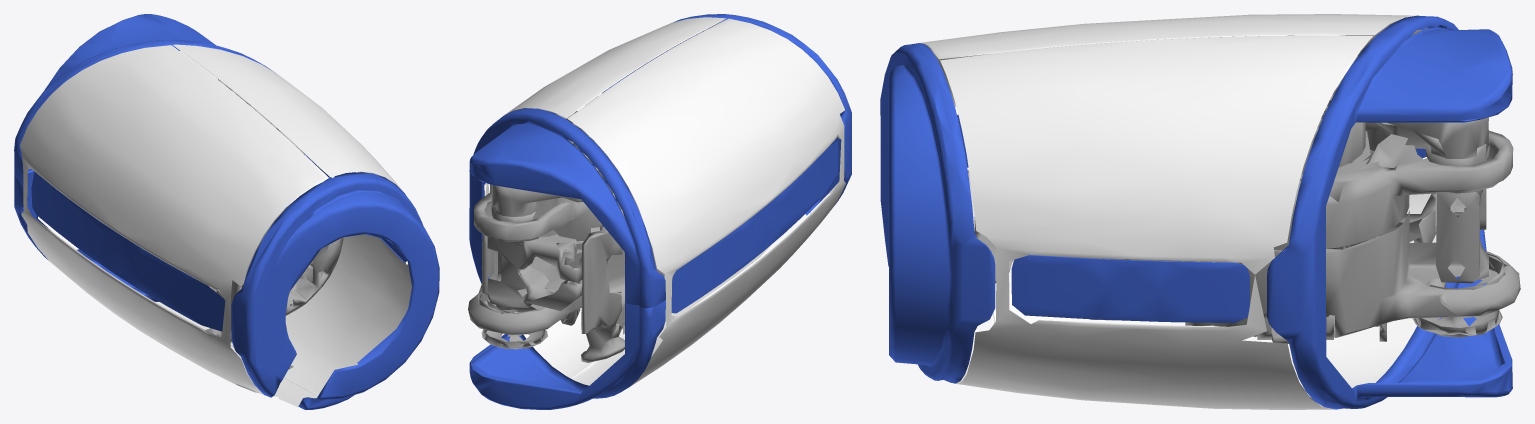
Rendered from sim_ecub_1-1_l_upperarm.obj.
The picture shows the model from 3 angles, left to right: view 1: azimuth 30°, elevation 25°; view 2: azimuth 150°, elevation 25°; view 3: azimuth 270°, elevation 25°; orthographic projection. The views are drawn at different scales.
Bounding box in the file's own units: 107 × 107 × 174.
